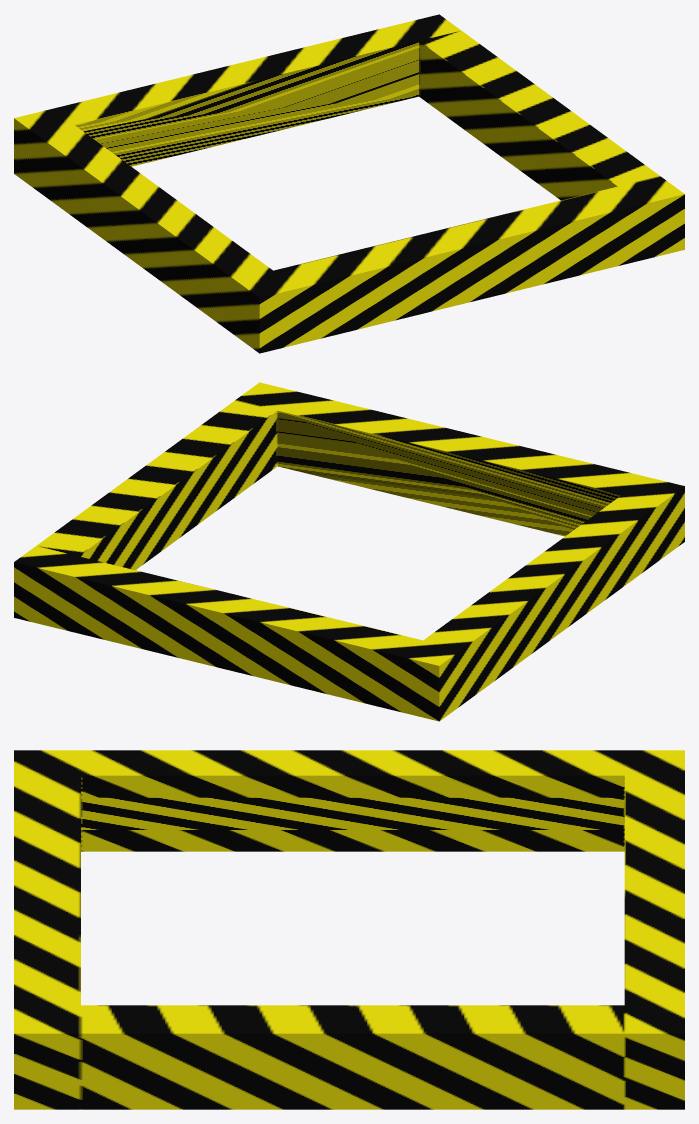
File: geofence.dae
The picture shows the model from 3 angles, top to bottom: view 1: azimuth 30°, elevation 25°; view 2: azimuth 150°, elevation 25°; view 3: azimuth 270°, elevation 25°; orthographic projection. The views are drawn at different scales.
Parts seen in each view (by area): view 1: Cube; view 2: Cube; view 3: Cube.
Boxes of the visible parts, x1,y1,x2,y2 form: Cube: (14,14,684,353); Cube: (14,382,684,721); Cube: (14,750,684,1109).
Size of the model in its own units: 2 by 2 by 0.25.
Materials: 1 (1 with a texture image).
